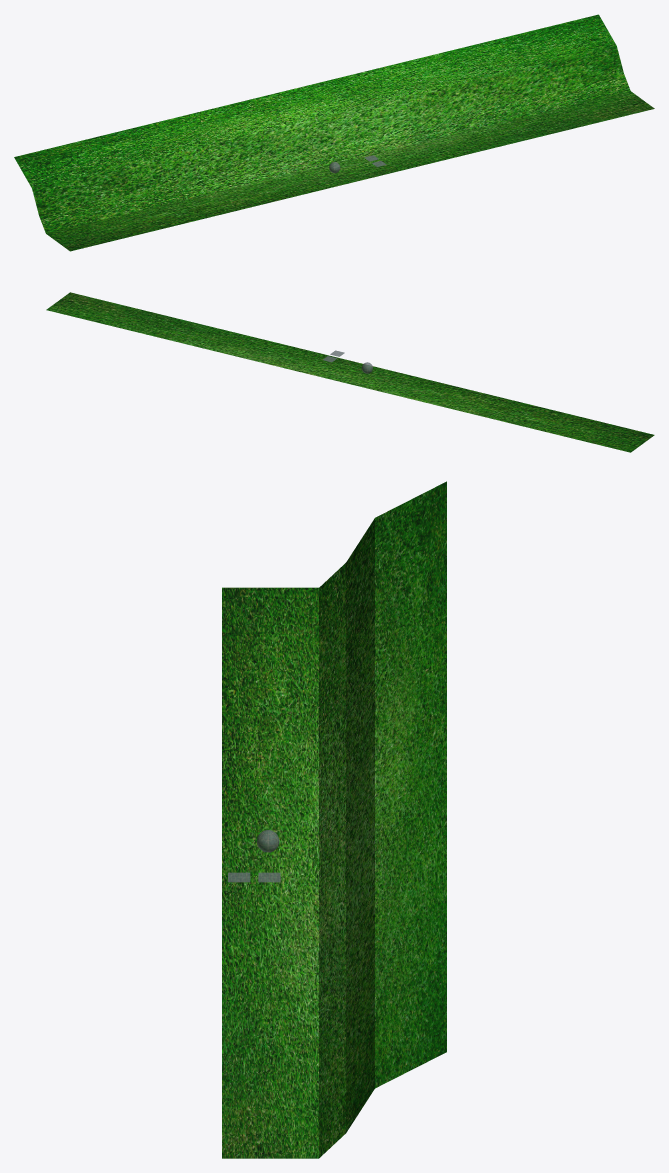
File: transmissiontest.glb
The picture shows the model from 3 angles, top to bottom: view 1: azimuth 30°, elevation 25°; view 2: azimuth 150°, elevation 25°; view 3: azimuth 270°, elevation 25°; orthographic projection. The views are drawn at different scales.
Parts seen in each view (by area): view 1: Plane; view 2: Plane; view 3: Plane.
Part boxes in pixels (<box>): Plane: <box>14,14,654,251</box>; Plane: <box>46,292,654,452</box>; Plane: <box>222,481,446,1158</box>.
Bounding box in the file's own units: 120 × 10.42 × 19.94.
2 materials, 2 textured.
